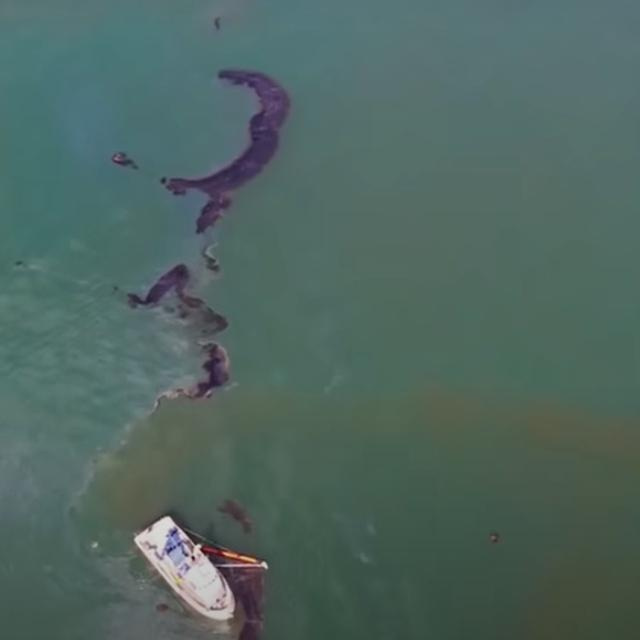truecolor: (160, 69, 291, 234), (184, 529, 267, 640), (127, 265, 228, 338), (156, 342, 230, 406), (218, 501, 252, 535), (201, 244, 220, 272), (111, 152, 138, 168)
